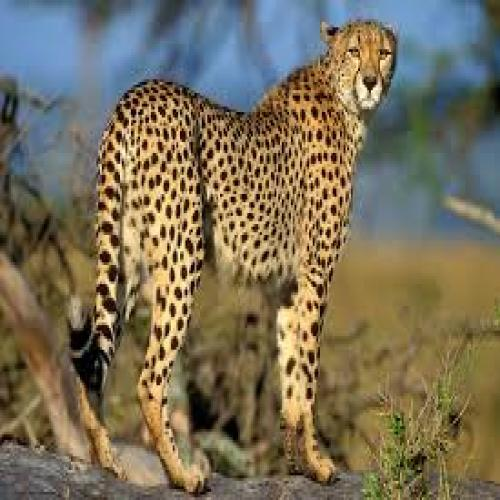cheetah-endangered: (64, 19, 398, 490)
